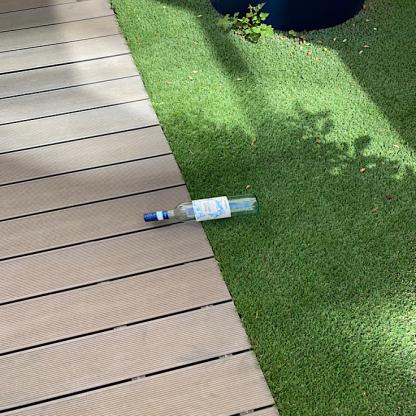trash: (139, 191, 262, 230)
